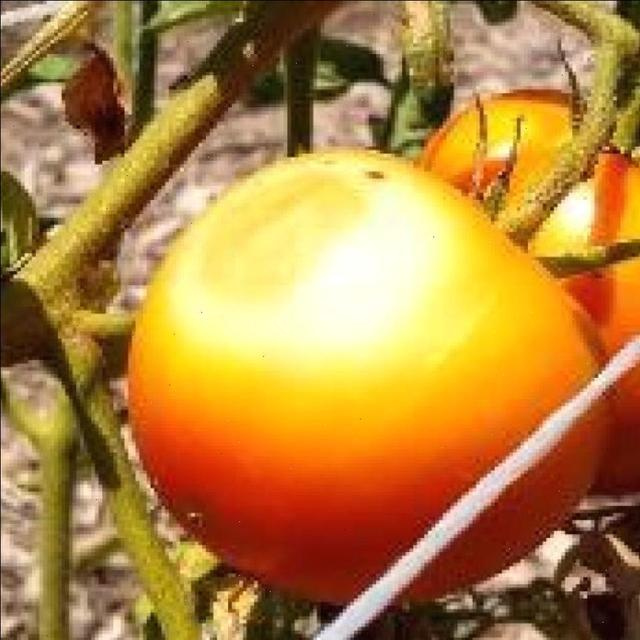Sunscald Fruit: (95, 100, 307, 276)
